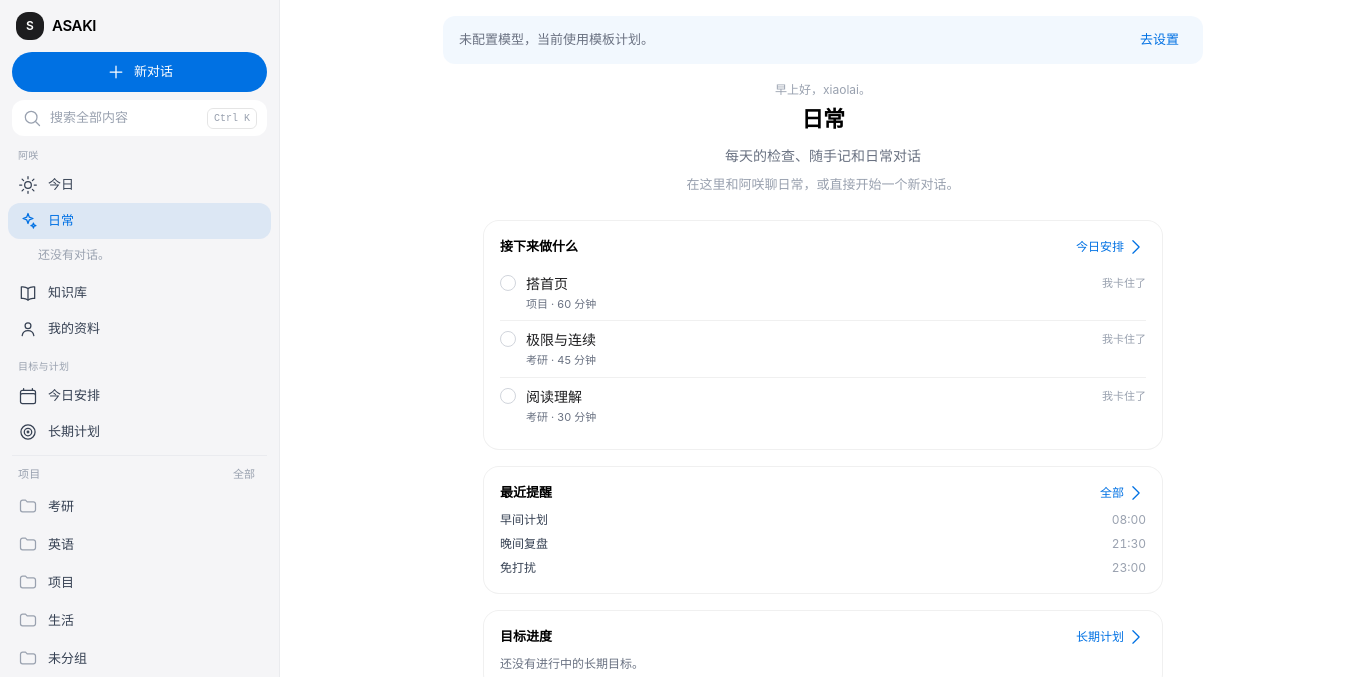
Scenario: the timetable link opens the full 今日安排 page
Check: the element "接下来" is shown, box 483,220 -> 1163,450
Click the button "今日": (28, 185) 8,167 -> 271,203
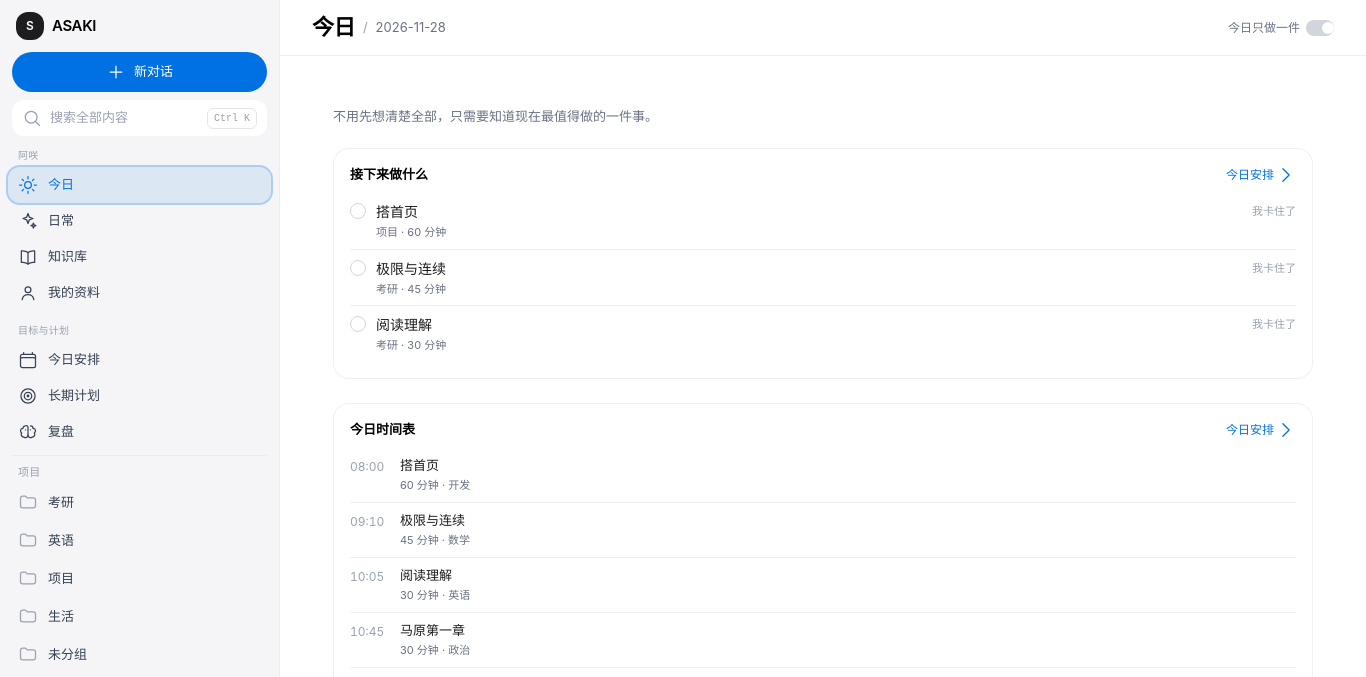
Click the button "今日安排" in the row of "今日时间表": (1261, 430) 1226,420 -> 1296,440
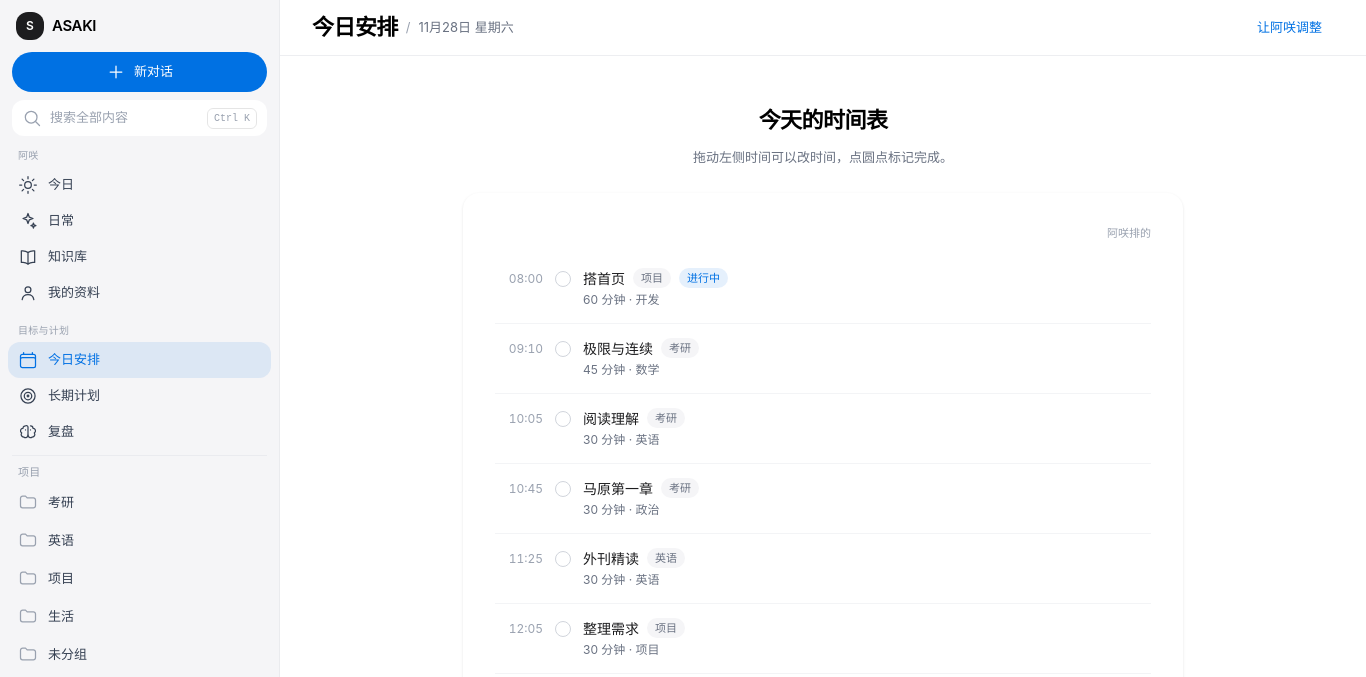
Check: the heading "今天的时间表" is shown, box 759,107 -> 887,133
